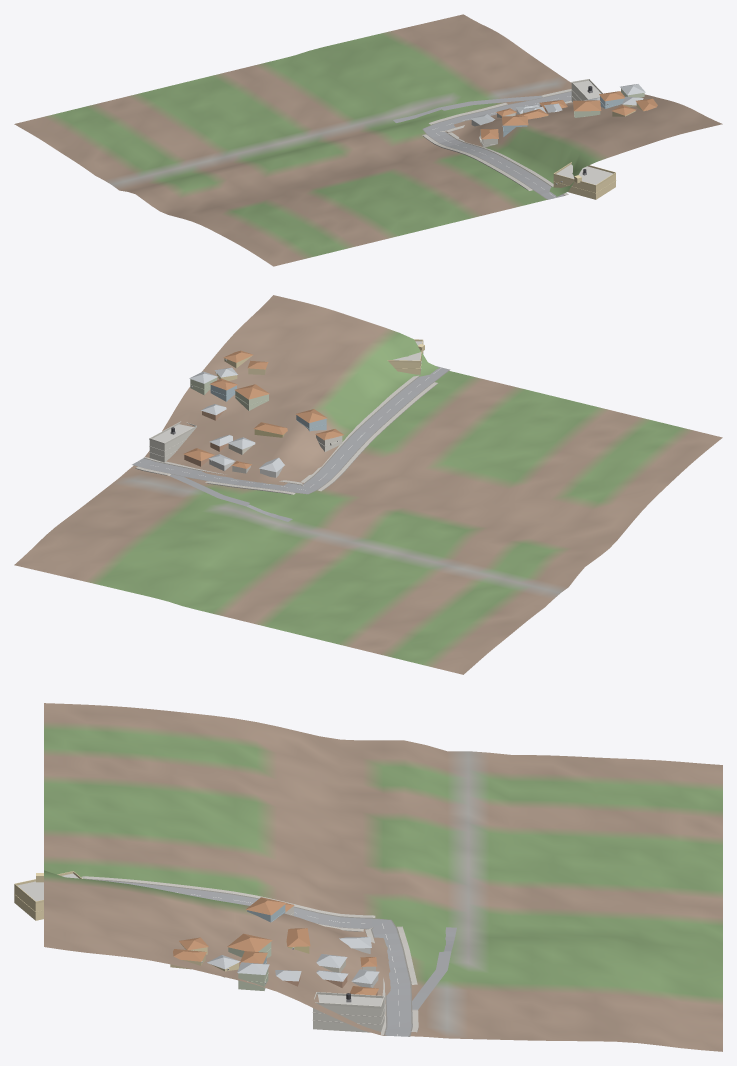
The picture shows the model from 3 angles, top to bottom: view 1: azimuth 30°, elevation 25°; view 2: azimuth 150°, elevation 25°; view 3: azimuth 270°, elevation 25°; orthographic projection. The views are drawn at different scales.
Parts seen in each view (by area): view 1: Terrain-col, Buildings-col, Roads-col, Sidewalks-col, Details; view 2: Terrain-col, Buildings-col, Roads-col, Sidewalks-col, Details; view 3: Terrain-col, Buildings-col, Roads-col, Sidewalks-col, Details.
Part boxes in pixels (x1=…): Terrain-col: x1=14, y1=14, x2=722, y2=266; Buildings-col: x1=470, y1=80, x2=657, y2=199; Roads-col: x1=393, y1=91, x2=571, y2=199; Sidewalks-col: x1=422, y1=89, x2=572, y2=195; Details: x1=479, y1=79, x2=618, y2=193; Terrain-col: x1=14, y1=295, x2=722, y2=674; Buildings-col: x1=149, y1=341, x2=423, y2=477; Roads-col: x1=132, y1=366, x2=450, y2=521; Sidewalks-col: x1=135, y1=375, x2=437, y2=494; Details: x1=149, y1=339, x2=424, y2=461; Terrain-col: x1=44, y1=703, x2=722, y2=1051; Buildings-col: x1=14, y1=873, x2=384, y2=1032; Roads-col: x1=89, y1=879, x2=456, y2=1036; Sidewalks-col: x1=81, y1=876, x2=418, y2=1035; Details: x1=14, y1=871, x2=384, y2=1024.
Bounding box in the file's own units: 257 × 43.81 × 267.
